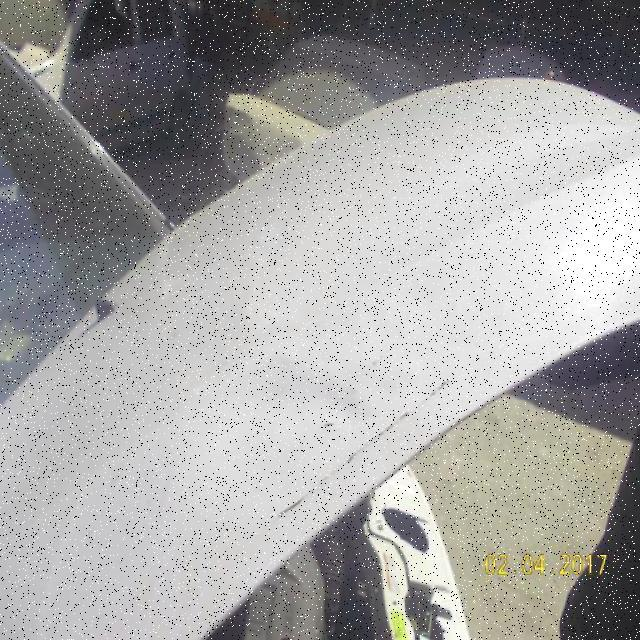car damage: (277, 374, 457, 519), (267, 352, 376, 435)
